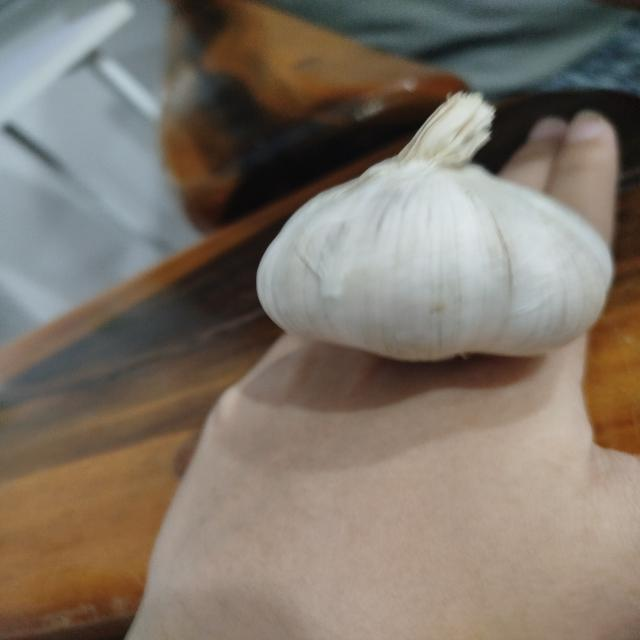garlic: (254, 90, 616, 363)
